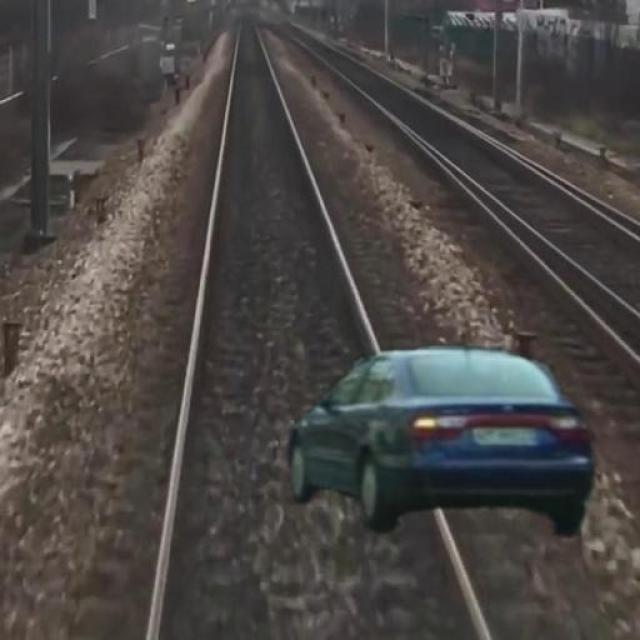vehicle: (276, 337, 593, 536)
